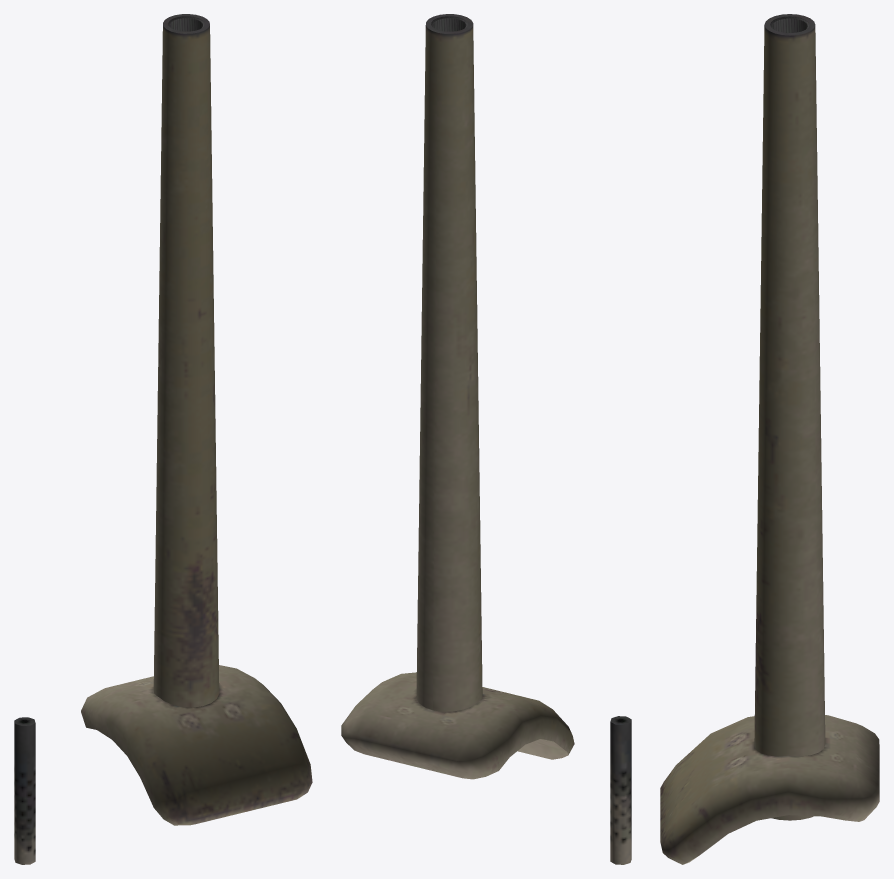
Rendered from Gun_01.glb.
3 renders of one model, left to right at view 1: azimuth 30°, elevation 25°; view 2: azimuth 150°, elevation 25°; view 3: azimuth 270°, elevation 25°, orthographic. The views are drawn at different scales.
Parts seen in each view (by area): view 1: set_0_group_0; view 2: set_0_group_0; view 3: set_0_group_0.
Part boxes in pixels (x1=…): set_0_group_0: x1=14, y1=14, x2=312, y2=864; set_0_group_0: x1=341, y1=14, x2=631, y2=864; set_0_group_0: x1=660, y1=14, x2=879, y2=864.
Size of the model in its own units: 0.6665 by 2 by 0.4676.
Materials: 1 (1 with a texture image).
